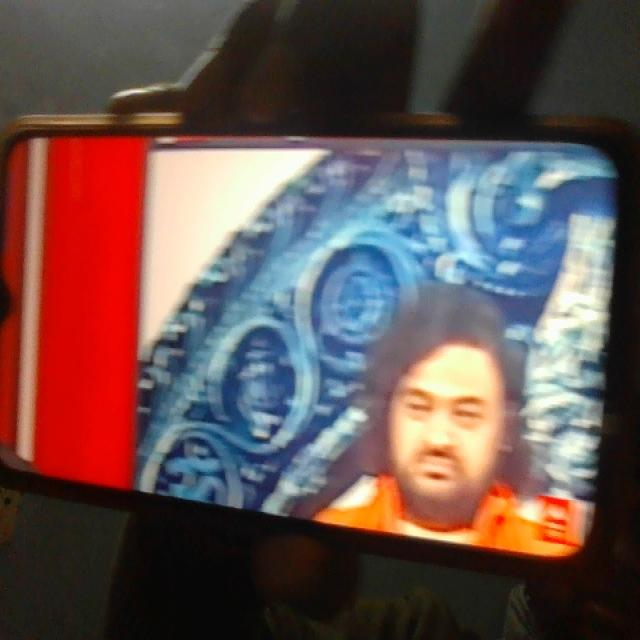fake: (386, 282, 513, 522)
